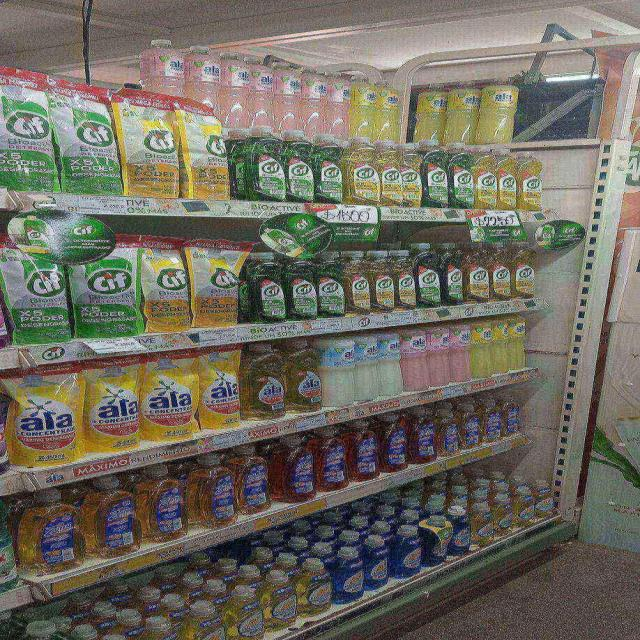ala_sachet_amarillo: (83, 363, 138, 451), (142, 355, 195, 441), (198, 348, 241, 429)
cif_conc_bot_amarilla: (465, 240, 488, 302), (371, 252, 394, 312), (395, 247, 414, 310)
cif_conc_botella_verde: (18, 210, 72, 344), (79, 245, 141, 339), (253, 126, 287, 202), (254, 254, 287, 323), (0, 497, 20, 598), (286, 132, 314, 202), (288, 255, 317, 321), (314, 142, 344, 203), (415, 242, 442, 308), (317, 260, 347, 318), (448, 144, 474, 209), (422, 145, 446, 208), (442, 240, 464, 304), (0, 238, 10, 348), (0, 606, 17, 640)
